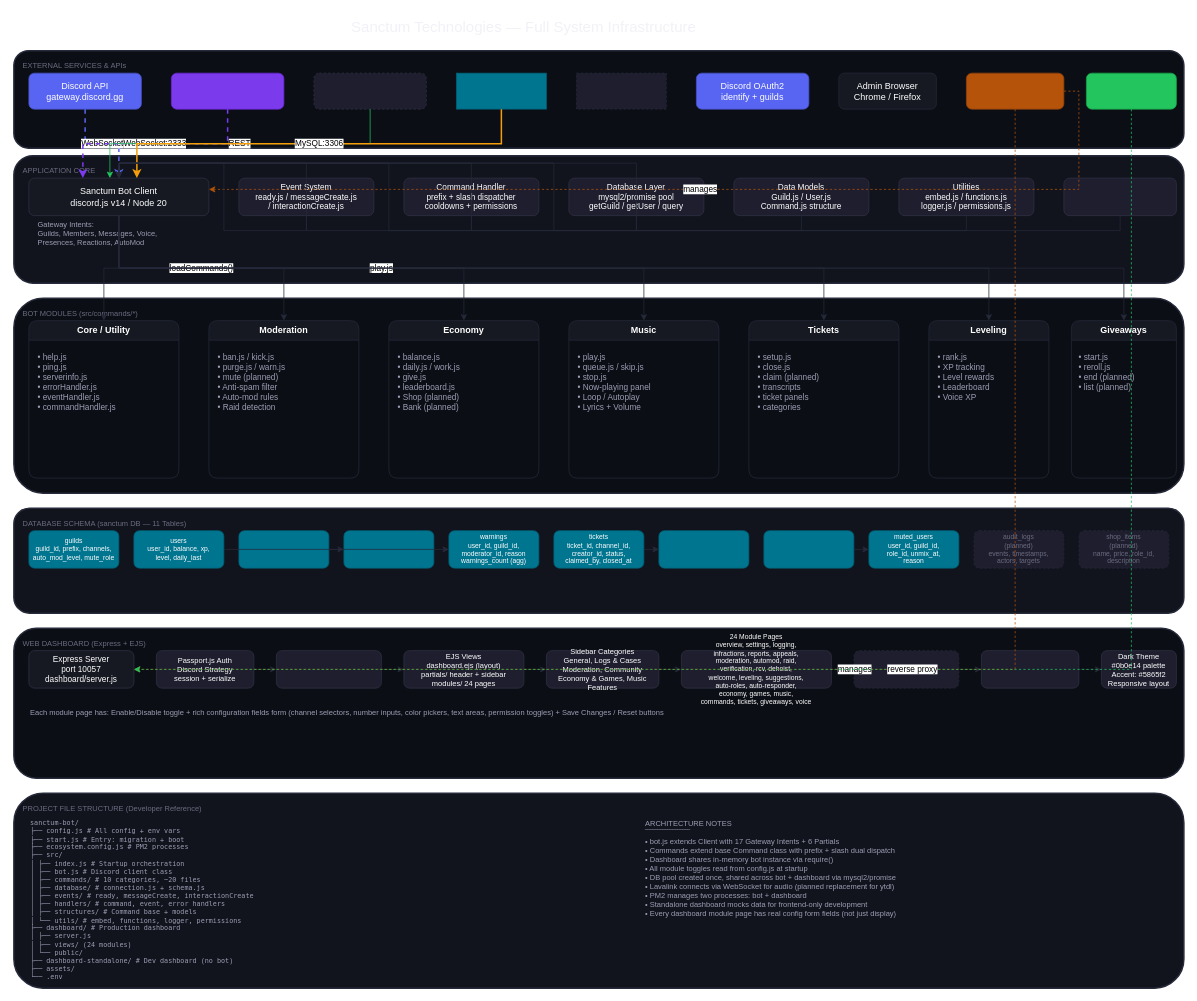
Some shapes in this 1197 by 1001 pixel diagram are drawn without their labels. The centre of each missing label's shape, as x and y in pixels:
"Config config.js + .env (all module toggles)" goes at [1119,196].
"economy user_id, guild_id, balance, bank, daily_last" goes at [388,549].
"giveaways message_id, prize, winners, end_time, entrants (JSON)" goes at [703,549].
"Lavalink localhost:2333" goes at [227,90].
"levels user_id, guild_id, xp, level, last_message" goes at [283,549].
"music_queue guild_id, song_url, song_title, requester, position, duration" goes at [808,549].
"MySQL 8.0 sanctum:3306" goes at [501,90].
"Nginx Reverse Proxy (SSL)" goes at [1131,90].
"PM2 Process Manager" goes at [1015,90].
"Redis (future) Cache / Queues" goes at [621,90].
"Routes / -> index /auth -> Discord /dashboard -> panel /api/stats /logout" goes at [328,669].
"Standalone Mode dashboard-standalone/ (mock data, no bot)" goes at [906,669].
"Static Assets public/ folder CSS, JS, images" goes at [1030,669].
"YouTube / Spotify Streaming APIs" goes at [369,90].
